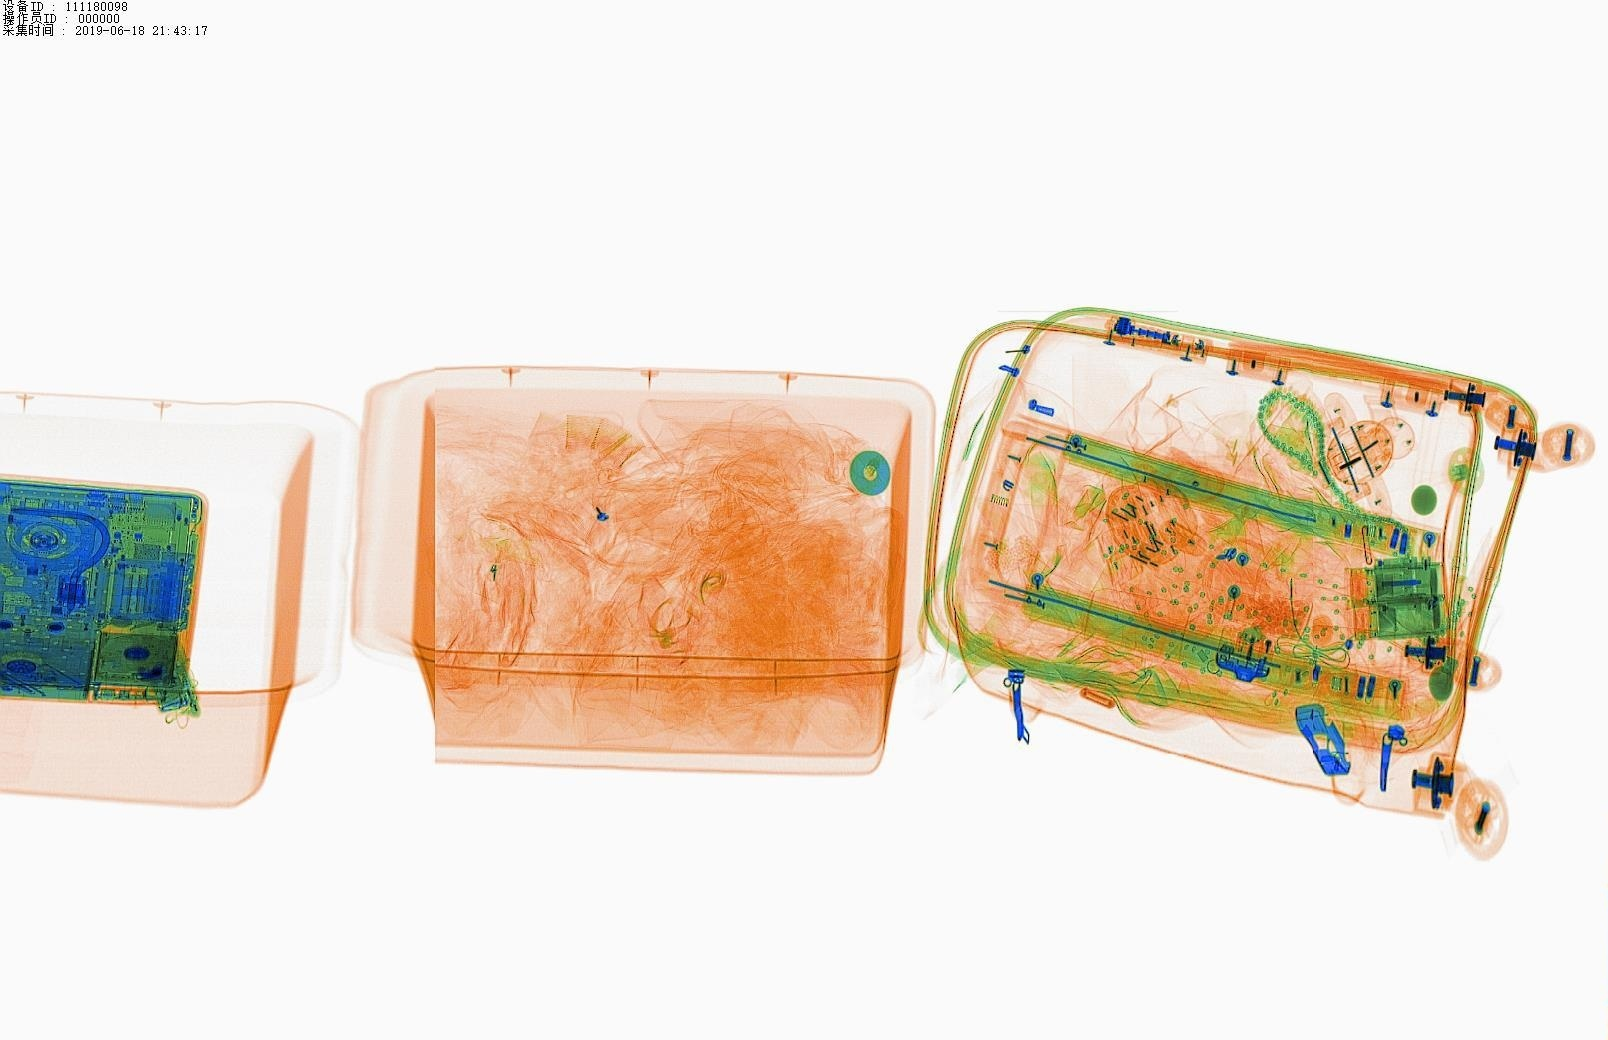NonmetallicFire: (1210, 605, 1304, 696)
